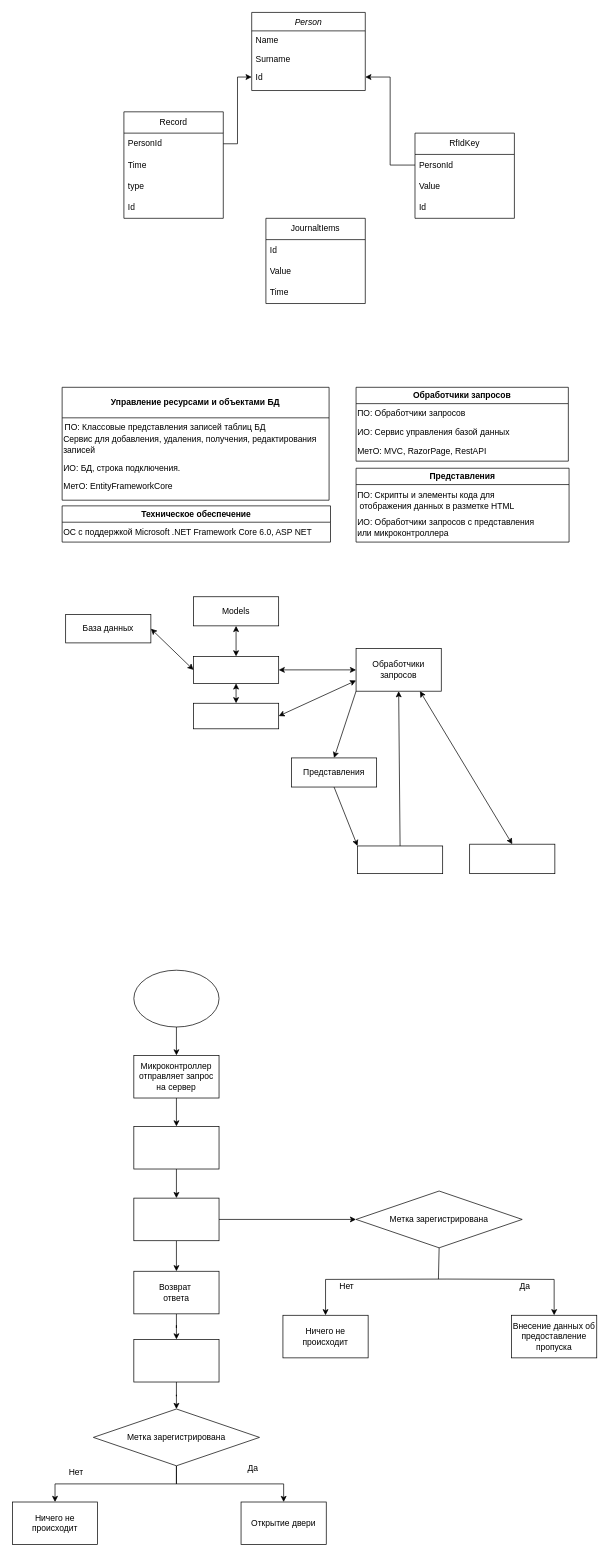
The diagram is 609 pixels wide and 1557 high, and some of its shapes have lost their labels. Here are the shapes that lost their labels. From the top down, the centre of each, then its label:
(236,669): Repository
(236,716): Services
(400,859): Браузер
(512,858): Микроконтроллеры
(176,998): RFID модуль считывает метку
(176,1147): Контроллер получает запрос и обращается к репозиторию
(176,1219): Репозиторий проверяет базу данных
(176,1360): Контроллер возвращает ответ на микроконтроллер
